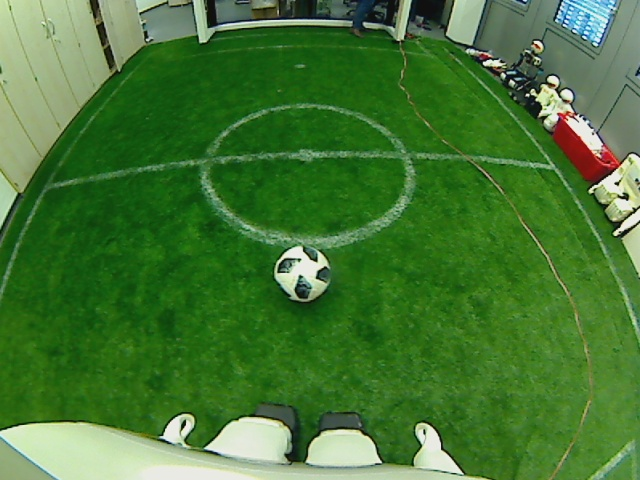ball: (273, 240, 335, 305)
